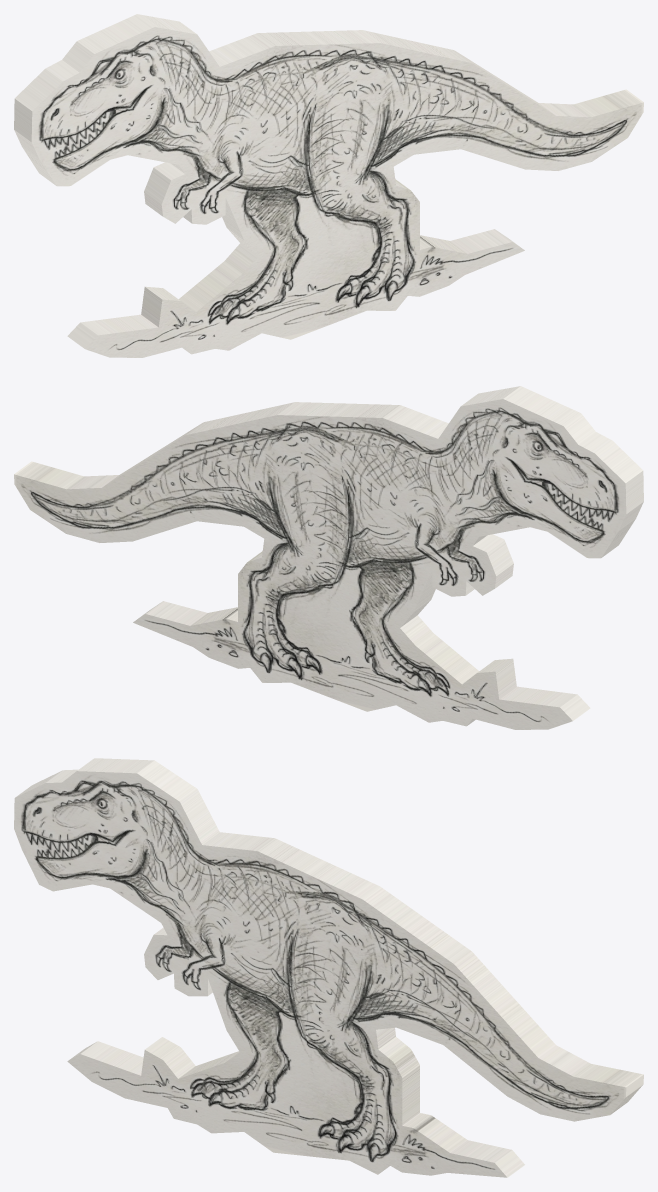
Rendered from xreate_example_create-with-pencil-and-paper-doodle-polygon.glb.
3 renders of one model, top to bottom at view 1: azimuth 30°, elevation 25°; view 2: azimuth 150°, elevation 25°; view 3: azimuth 330°, elevation 25°, orthographic.
Visible parts, largest first — view 1: Dino; view 2: Dino; view 3: Dino.
Boxes of the visible parts, bbox=[...] form: Dino: bbox=[14, 14, 643, 357]; Dino: bbox=[14, 386, 643, 729]; Dino: bbox=[14, 758, 643, 1177].
Size of the model in its own units: 1 by 0.5401 by 0.05.
1 material, 1 textured.
